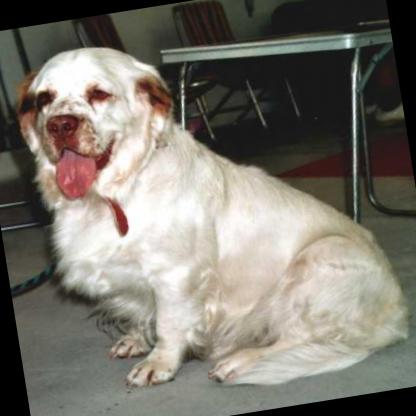clumber: (9, 0, 416, 416)
